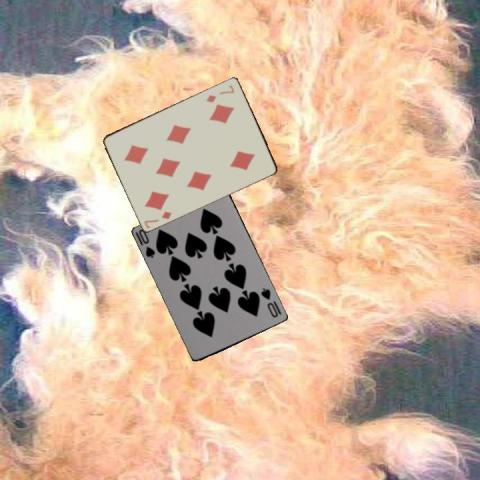10s: (258, 286, 279, 320), (136, 226, 157, 259)
7d: (203, 82, 236, 104), (142, 208, 174, 229)
